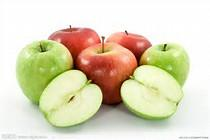apple: (23, 42, 67, 101)
